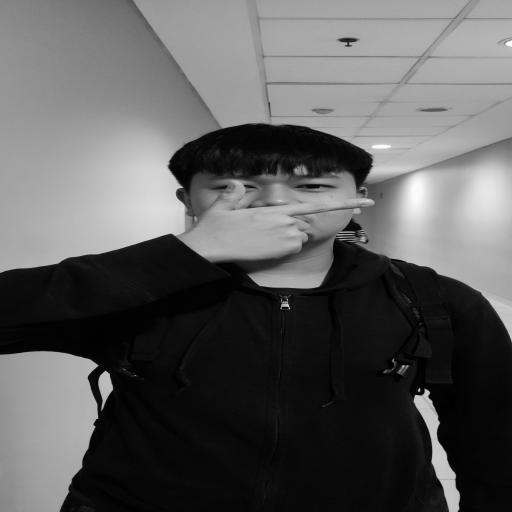next: (153, 173, 408, 266)
